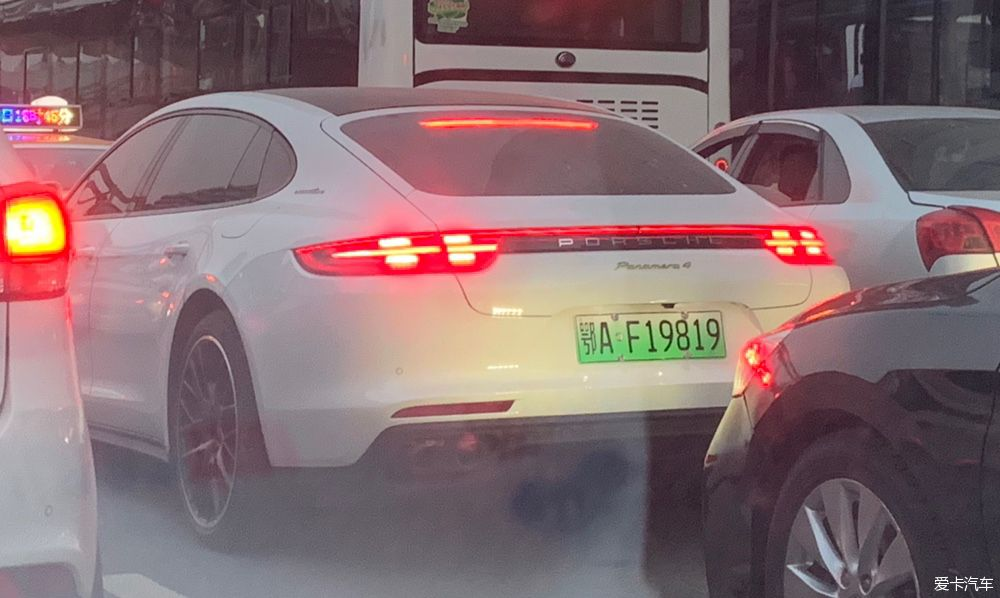plate: (559, 290, 745, 380)
